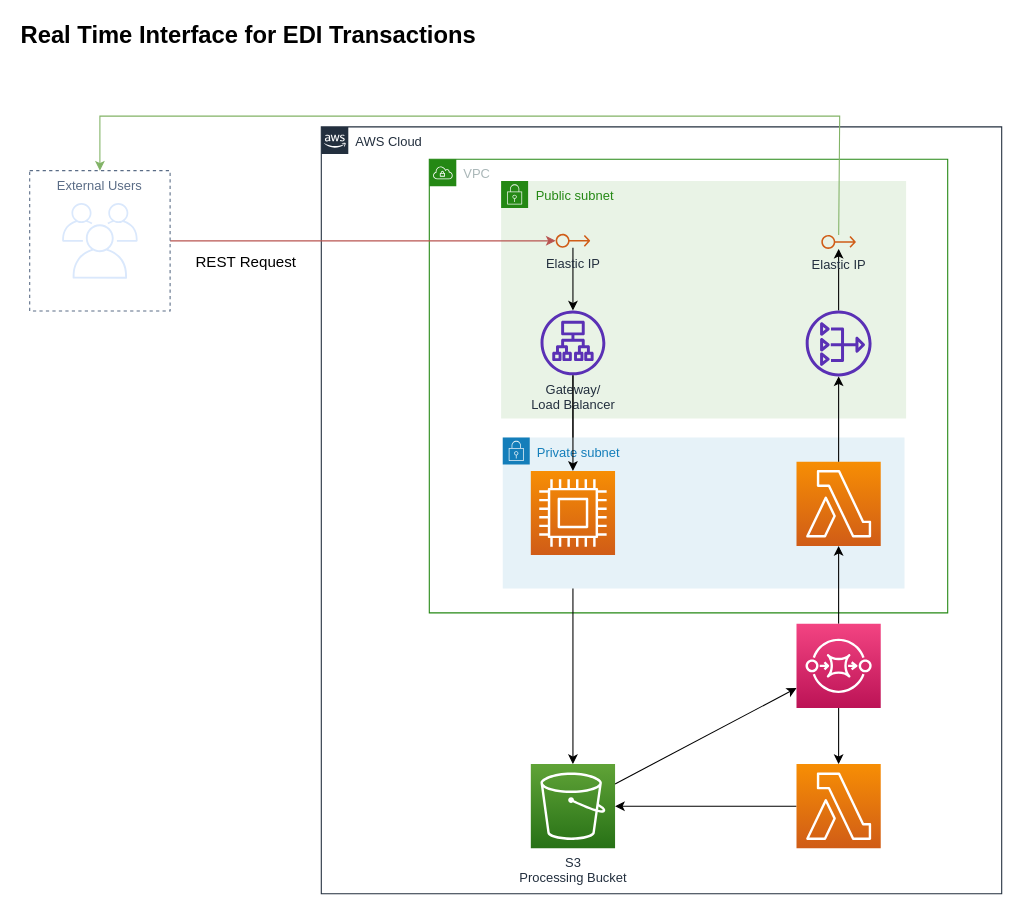
Some shapes in this 1021 by 913 pixel diagram are drawn without their labels. The shapes that lost their labels are listed below. From the top down, each one's centre as x and y in pixels, then its label:
At point 838,343: "NAT Gateway".
At point 572,512: "Processing".
At point 838,503: "Routing Function(s)".
At point 838,665: "Processing Queue(s)".
At point 838,805: "Mapping Function(s)".
